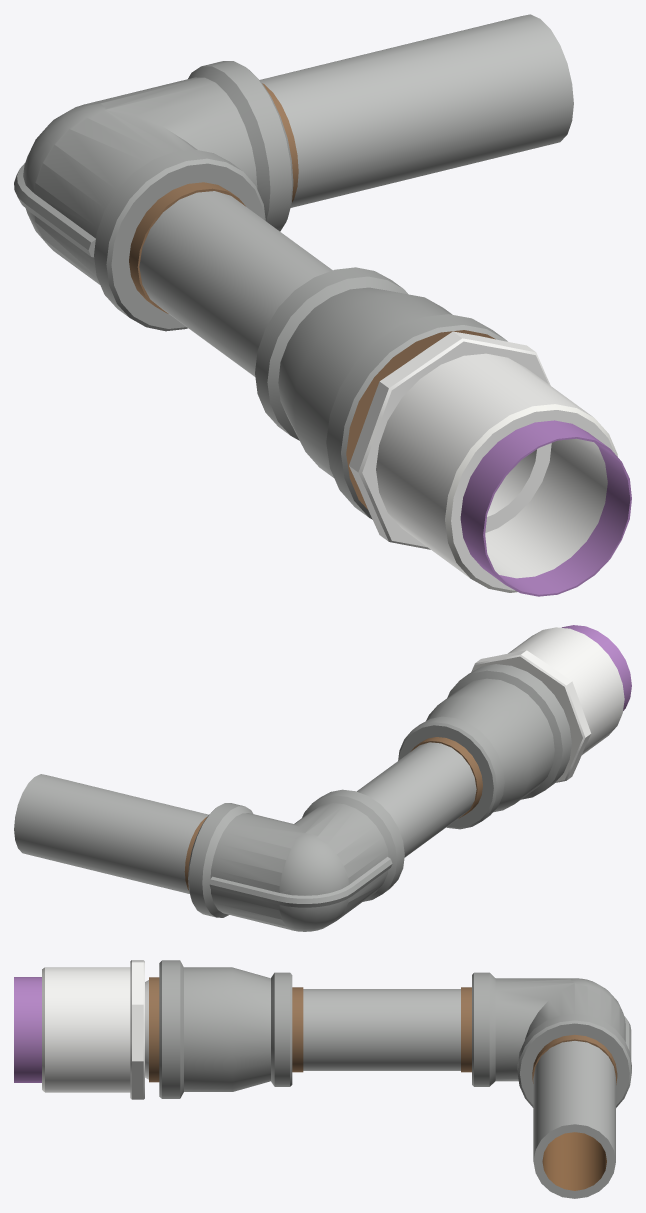
The model's file is pipes_supply__water-city_filter_and_softener-no_and_plumbing-galvanized.glb.
The picture shows the model from 3 angles, top to bottom: view 1: azimuth 30°, elevation 25°; view 2: azimuth 150°, elevation 25°; view 3: azimuth 270°, elevation 25°; orthographic projection. The views are drawn at different scales.
Parts seen in each view (by area): view 1: fit_bushing_pipe_supply_entry_direct__galvanized, pipe_supply_entry_direct__galvanized, fit_elbow_pipe_supply_entry_direct__galvanized_1; view 2: fit_bushing_pipe_supply_entry_direct__galvanized, fit_elbow_pipe_supply_entry_direct__galvanized_1, pipe_supply_entry_direct__galvanized; view 3: fit_bushing_pipe_supply_entry_direct__galvanized, pipe_supply_entry_direct__galvanized, fit_elbow_pipe_supply_entry_direct__galvanized_1.
Boxes of the visible parts, left/top/right/bottom form: fit_bushing_pipe_supply_entry_direct__galvanized: left=255, top=267, right=631, bottom=596; pipe_supply_entry_direct__galvanized: left=139, top=14, right=573, bottom=376; fit_elbow_pipe_supply_entry_direct__galvanized_1: left=14, top=61, right=298, bottom=331; fit_bushing_pipe_supply_entry_direct__galvanized: left=398, top=625, right=631, bottom=829; fit_elbow_pipe_supply_entry_direct__galvanized_1: left=184, top=789, right=404, bottom=931; pipe_supply_entry_direct__galvanized: left=14, top=742, right=476, bottom=893; fit_bushing_pipe_supply_entry_direct__galvanized: left=14, top=960, right=303, bottom=1099; pipe_supply_entry_direct__galvanized: left=303, top=989, right=615, bottom=1198; fit_elbow_pipe_supply_entry_direct__galvanized_1: left=461, top=972, right=631, bottom=1107.
Size of the model in its own units: 0.1248 by 0.0481 by 0.1997.
